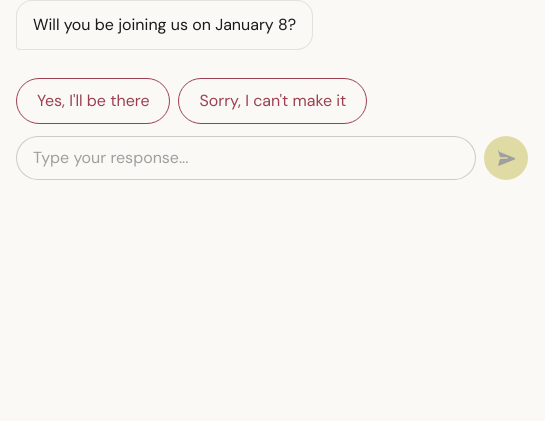
RSVPChat › submits an attending RSVP and confirms (no plus-one, contact on file)
Step 1. Click the button "Yes, I'll be there" → point(93, 101), box [16,78,170,124]
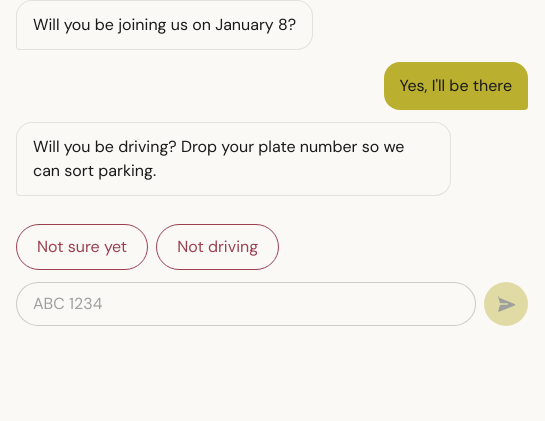
Step 2. Click the button "Not driving" → point(218, 247), box [156,224,279,270]
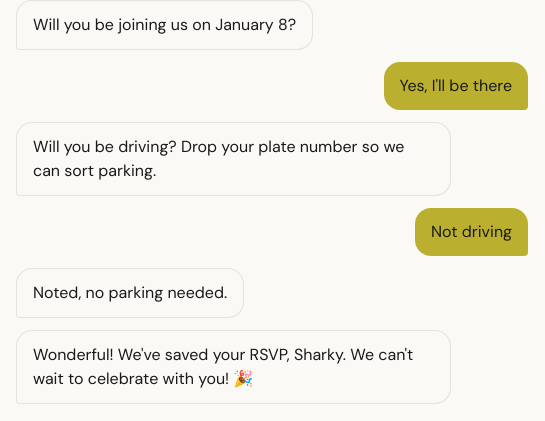
expect the text "Wonderful! We've saved your RSVP, Sharky" is shown: met, box [33,344,413,389]
